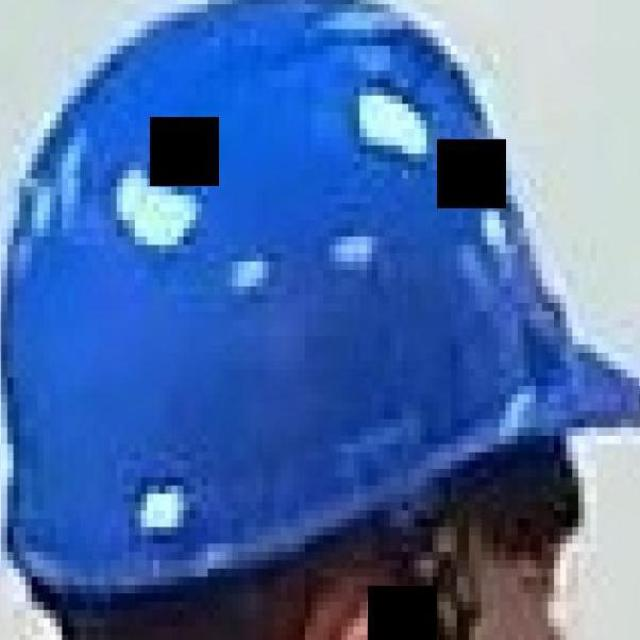blue helmet: (12, 18, 632, 510)
